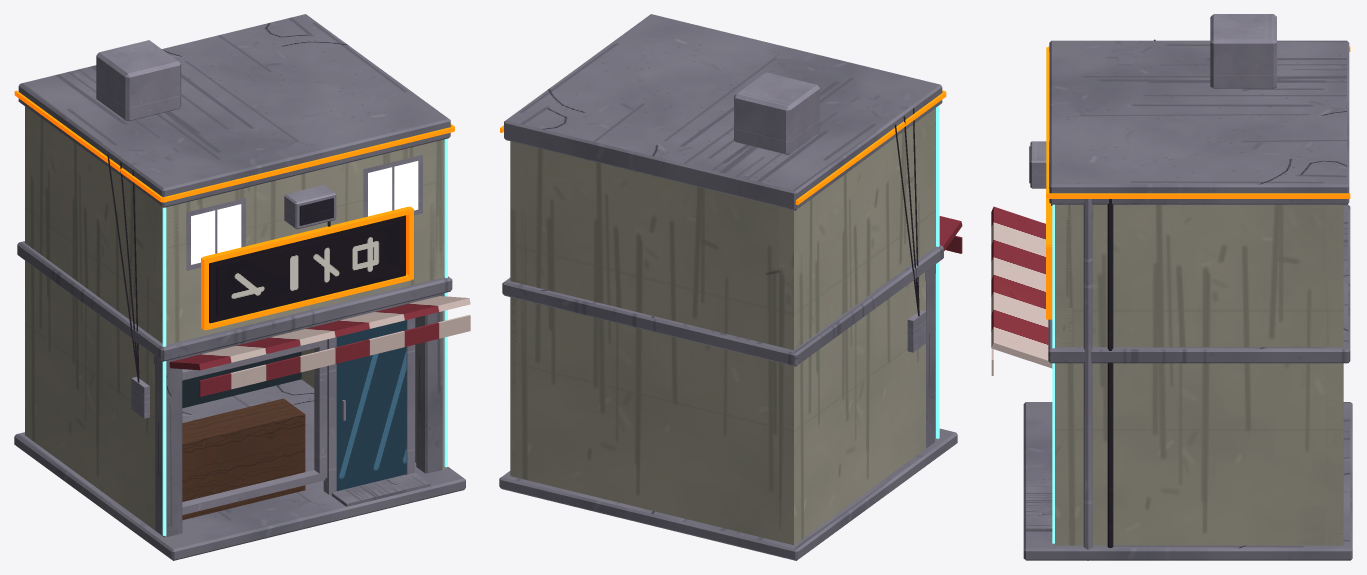
Rendered from servico.glb.
3 renders of one model, left to right at view 1: azimuth 30°, elevation 25°; view 2: azimuth 150°, elevation 25°; view 3: azimuth 270°, elevation 25°, orthographic. The views are drawn at different scales.
Parts seen in each view (by area): view 1: servico; view 2: servico; view 3: servico.
Part boxes in pixels (left/top/right/bottom): servico: left=14, top=14, right=470, bottom=560; servico: left=499, top=14, right=962, bottom=560; servico: left=991, top=14, right=1352, bottom=560.
Size of the model in its own units: 3.18 by 4.2 by 3.25.
Materials: 5 (2 with a texture image).
